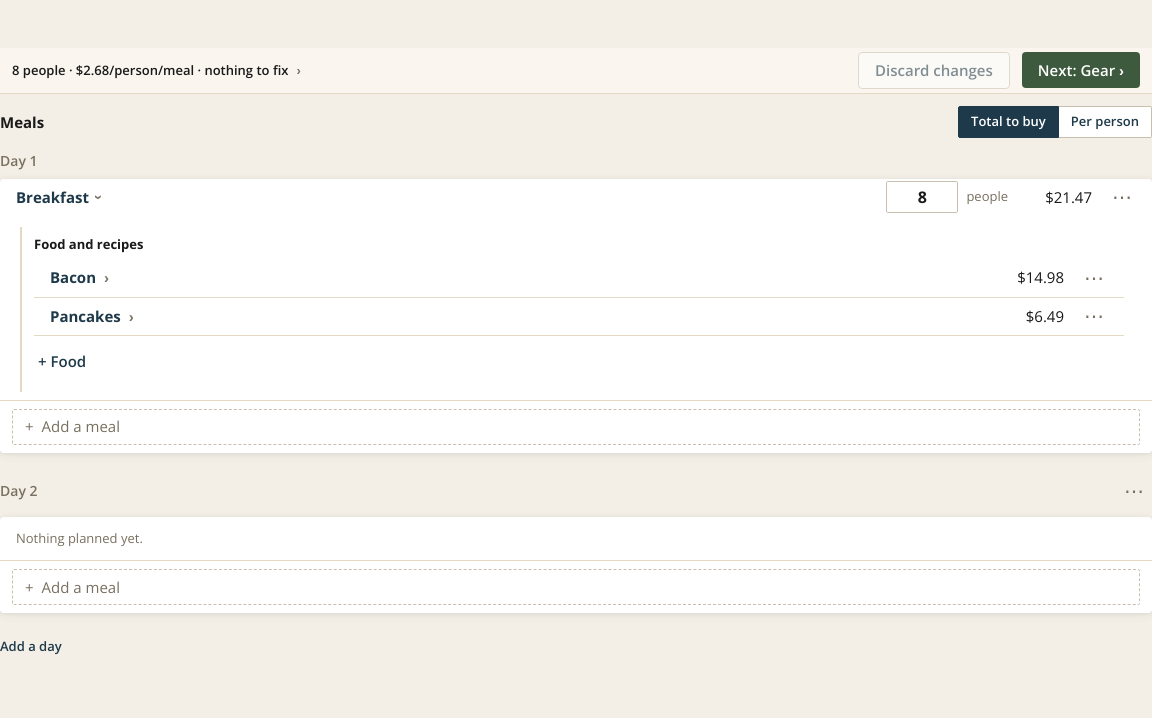
Test case: Plan tab — brands › ATypedBrand_IsAddedThroughTheAction_AndChosen
Click the button "Bacon ›" at (80, 278), box [50,266,109,289]
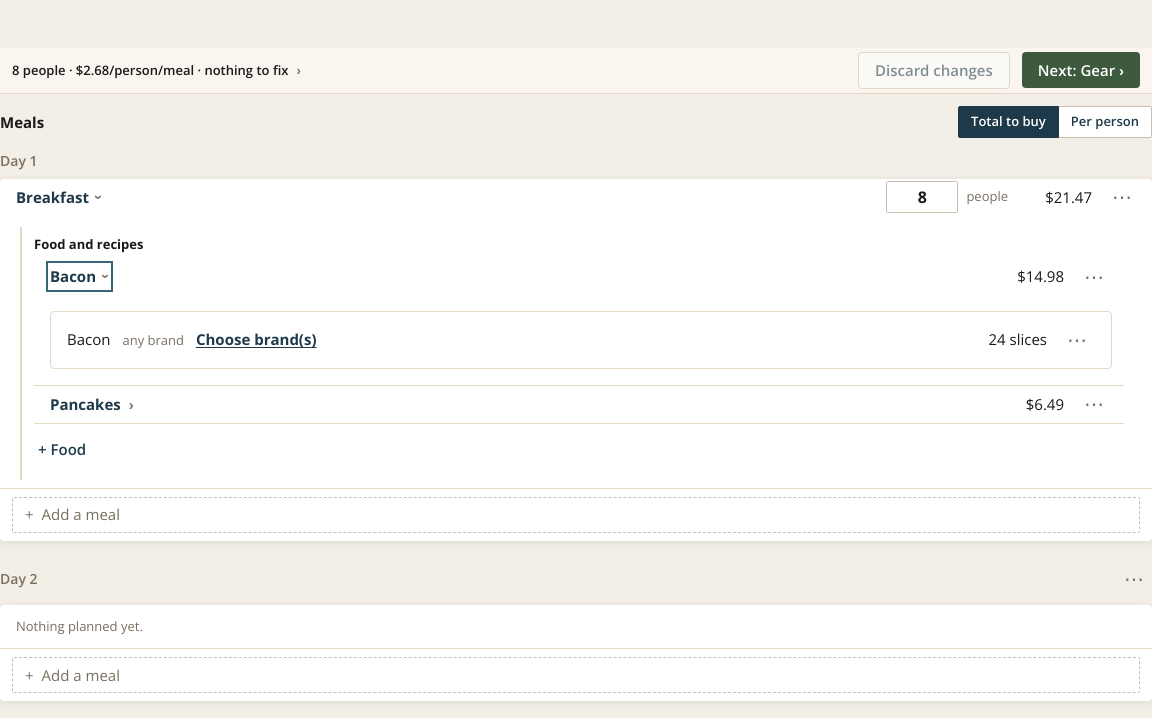
Click the button with aria-label "Choose brand(s) for Bacon" at (256, 340), box [196,328,316,351]
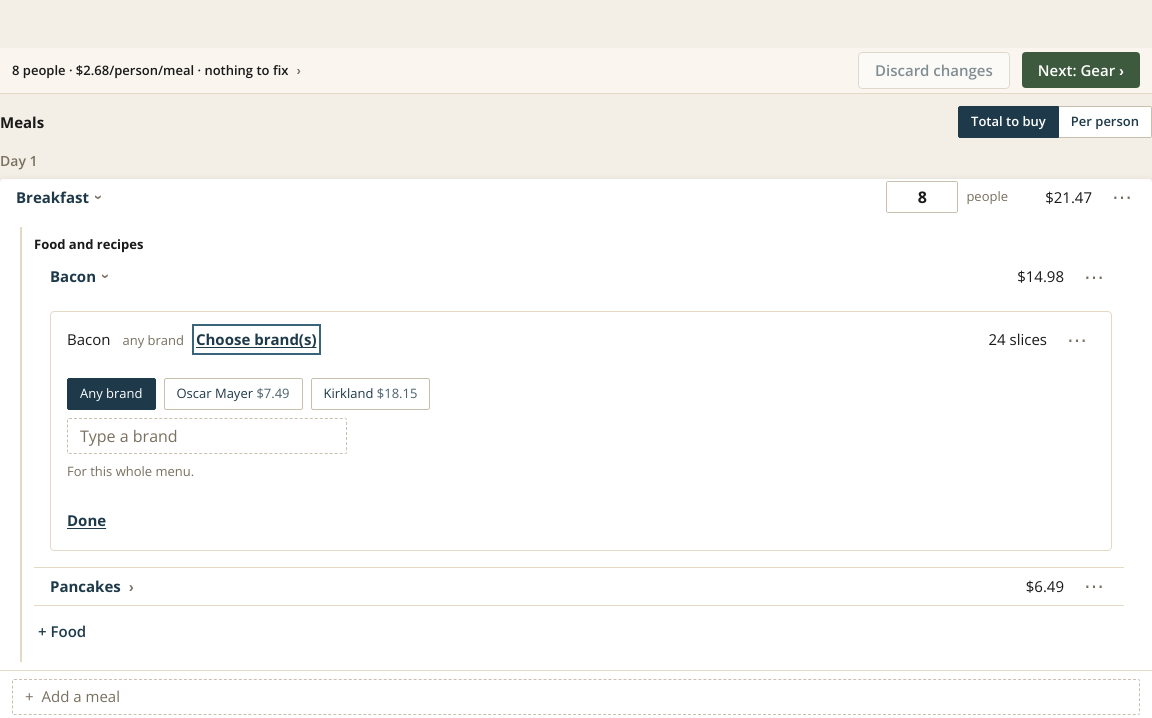
Type "Farm stand" into the field named "Type a brand of Bacon" at (207, 436), box [67,418,347,454]
Then press Enter
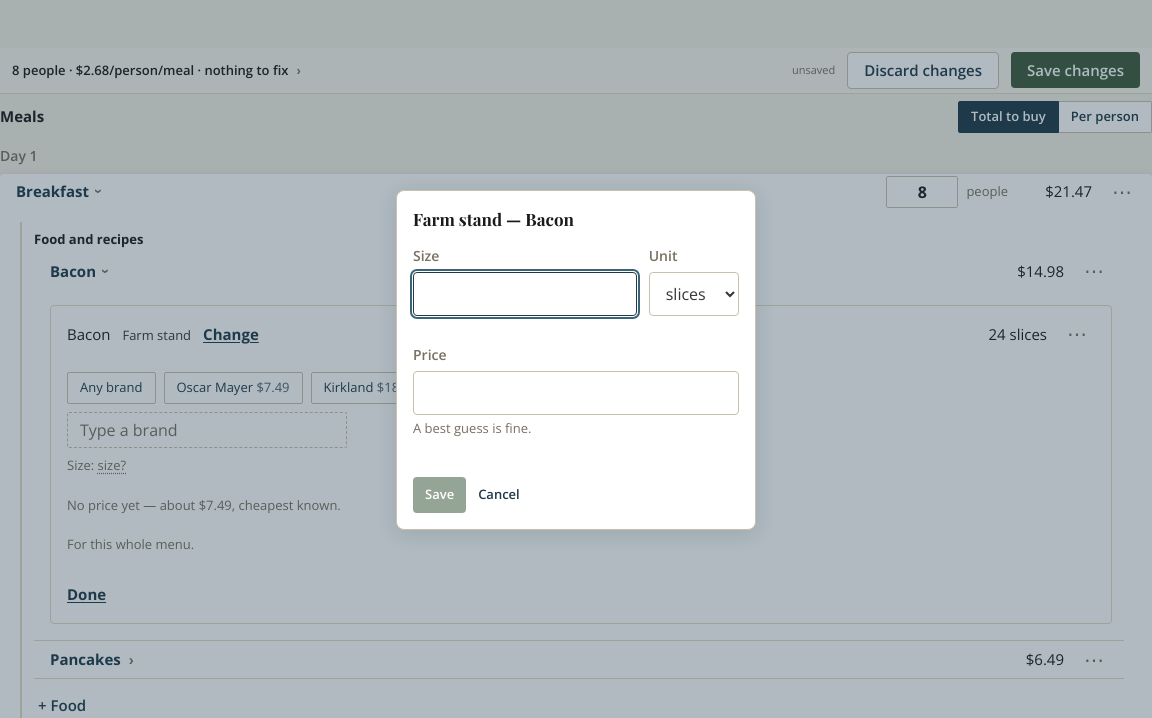
Now the text "Farm stand" is shown, box [122,326,191,345]
